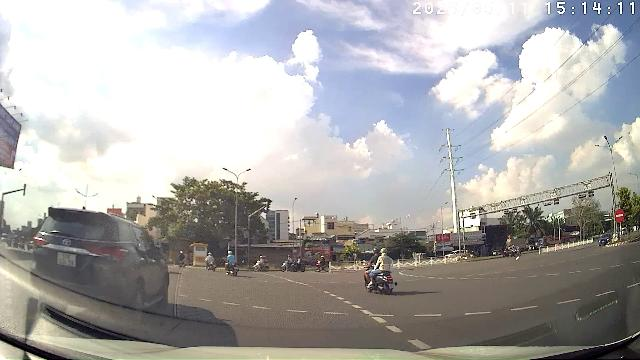102-cam-di-nguoc-chieu: (614, 209, 625, 222)
